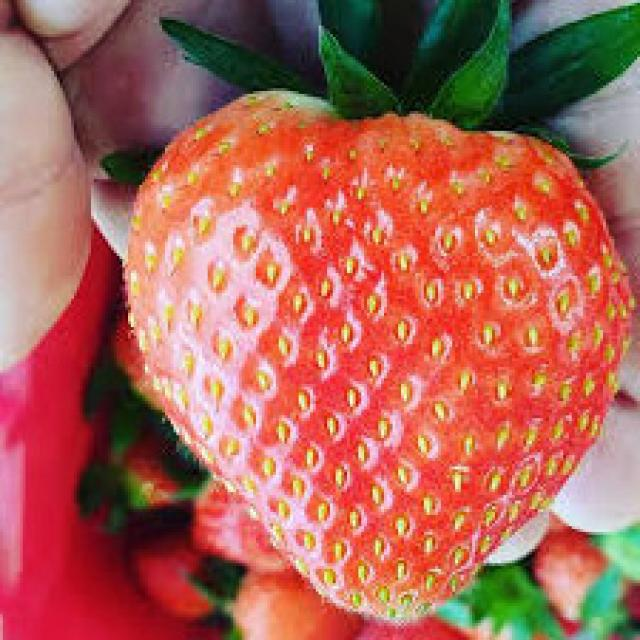mature: (121, 90, 636, 628)
